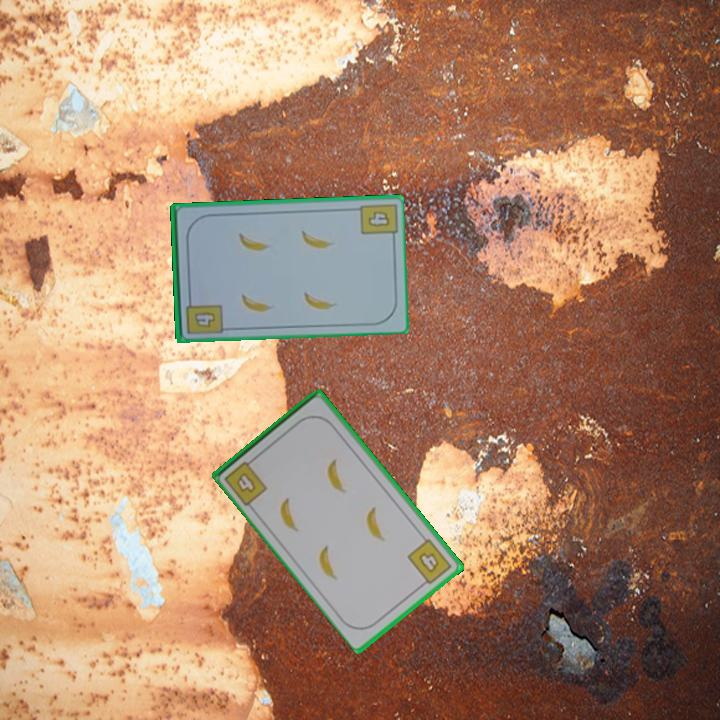4b: (404, 535, 455, 590), (221, 453, 271, 508), (182, 293, 225, 337), (365, 207, 393, 230)
